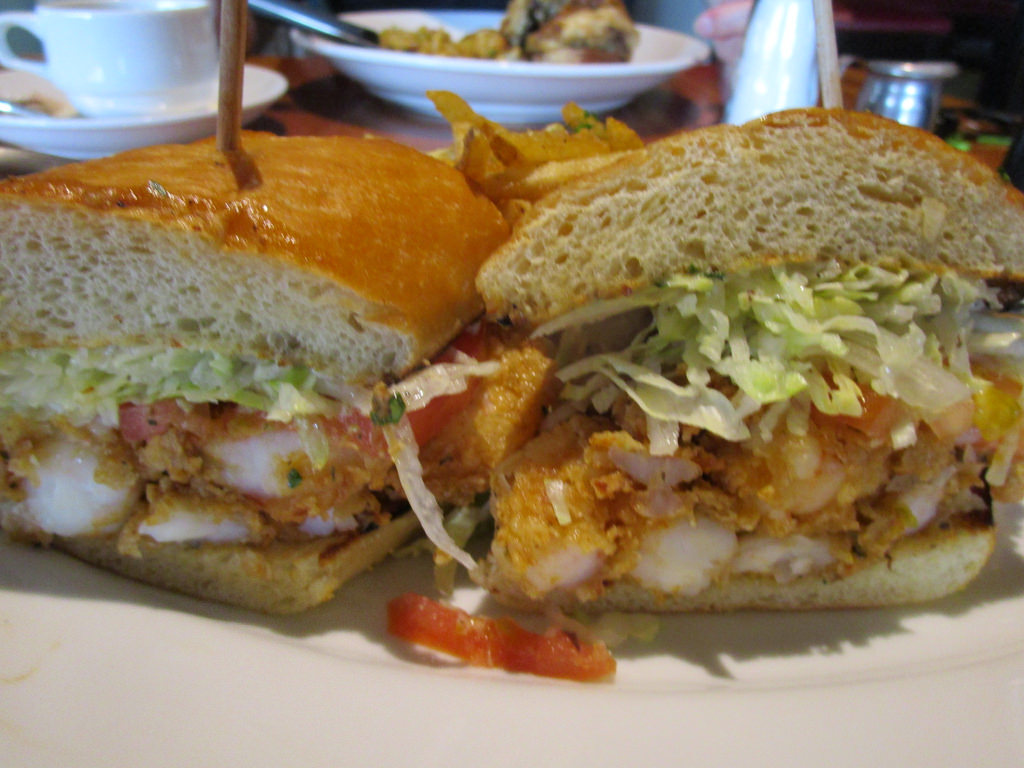slice of bread: (9, 145, 501, 365), (511, 138, 1024, 285), (8, 459, 459, 611), (486, 517, 1024, 611)
